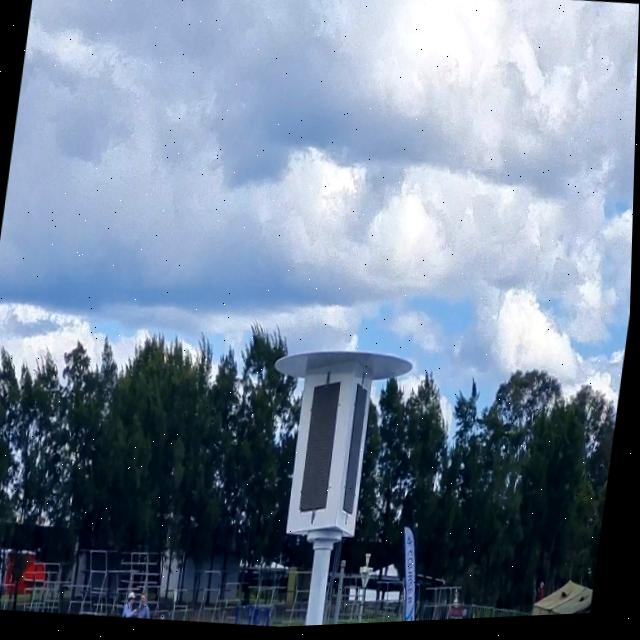led: (293, 375, 352, 525), (338, 378, 374, 527)
